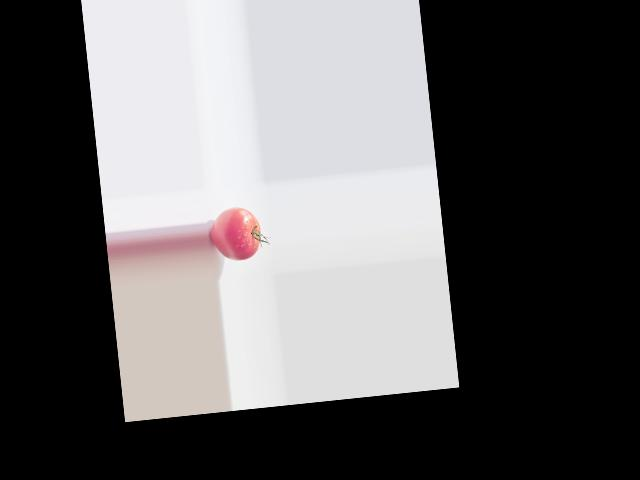tomato: (208, 204, 262, 262)
